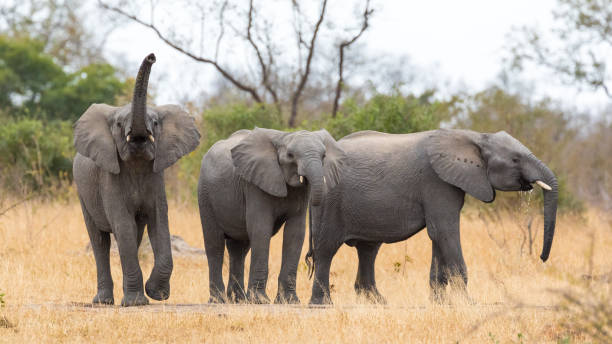africanelephant: (484, 136, 559, 200), (273, 133, 333, 197), (109, 105, 163, 166)
